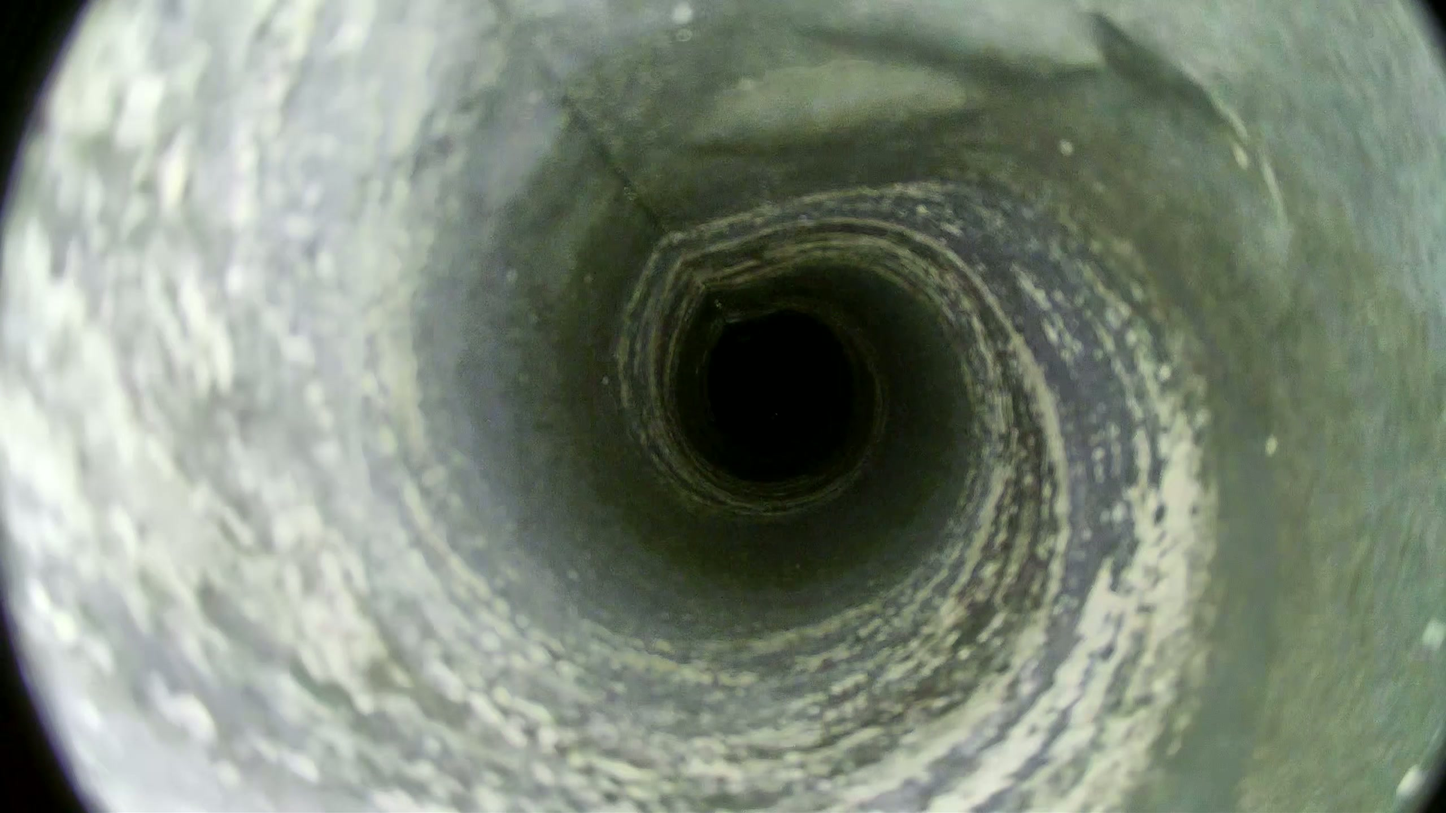hole: (708, 318, 846, 457)
